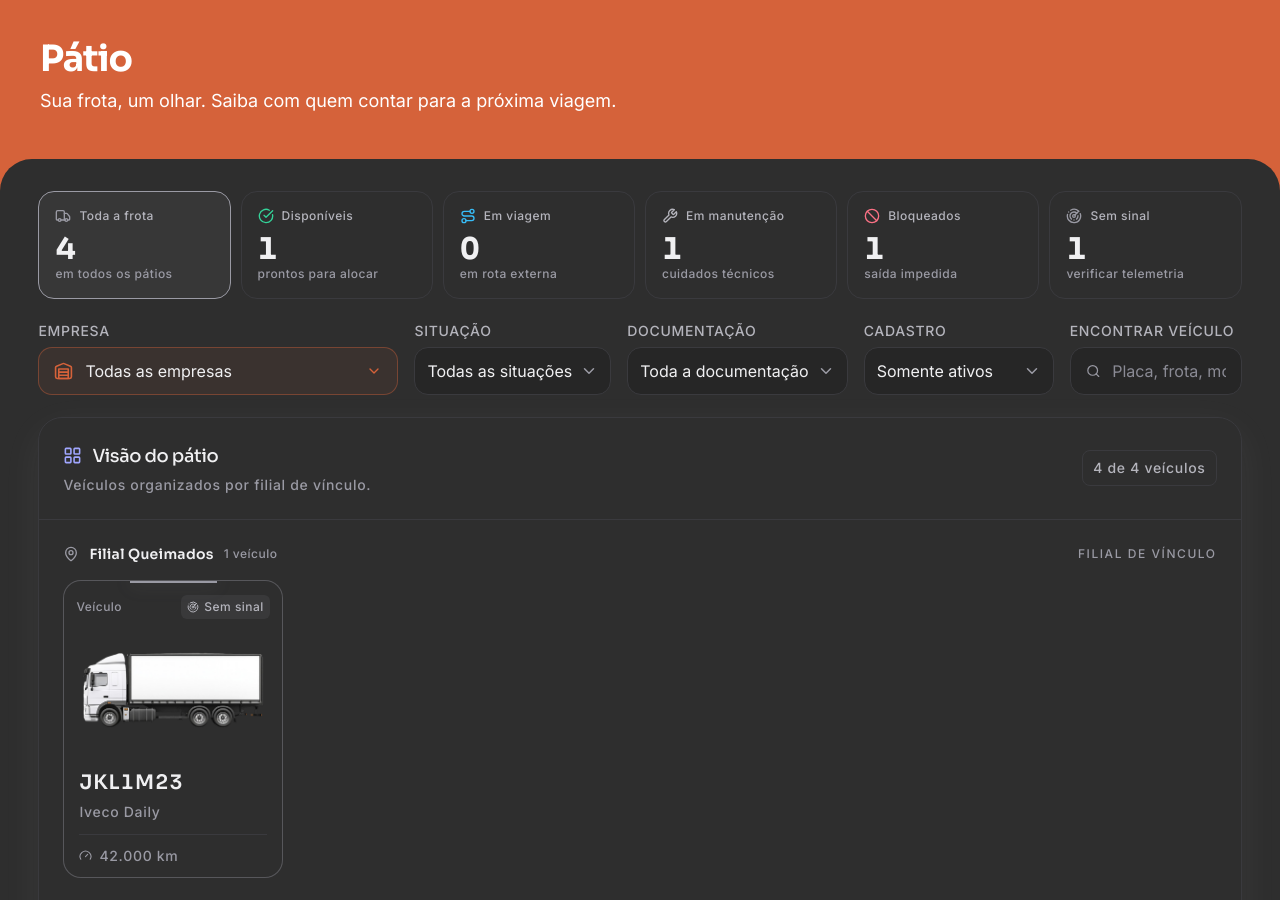
Test: Pátio › esconde o veículo inativo até o filtro de cadastro pedir por ele
This screenshot has width=1280, height=900.
Click the dropdown named "Cadastro".
click(959, 371)  # box [864, 347, 1054, 395]
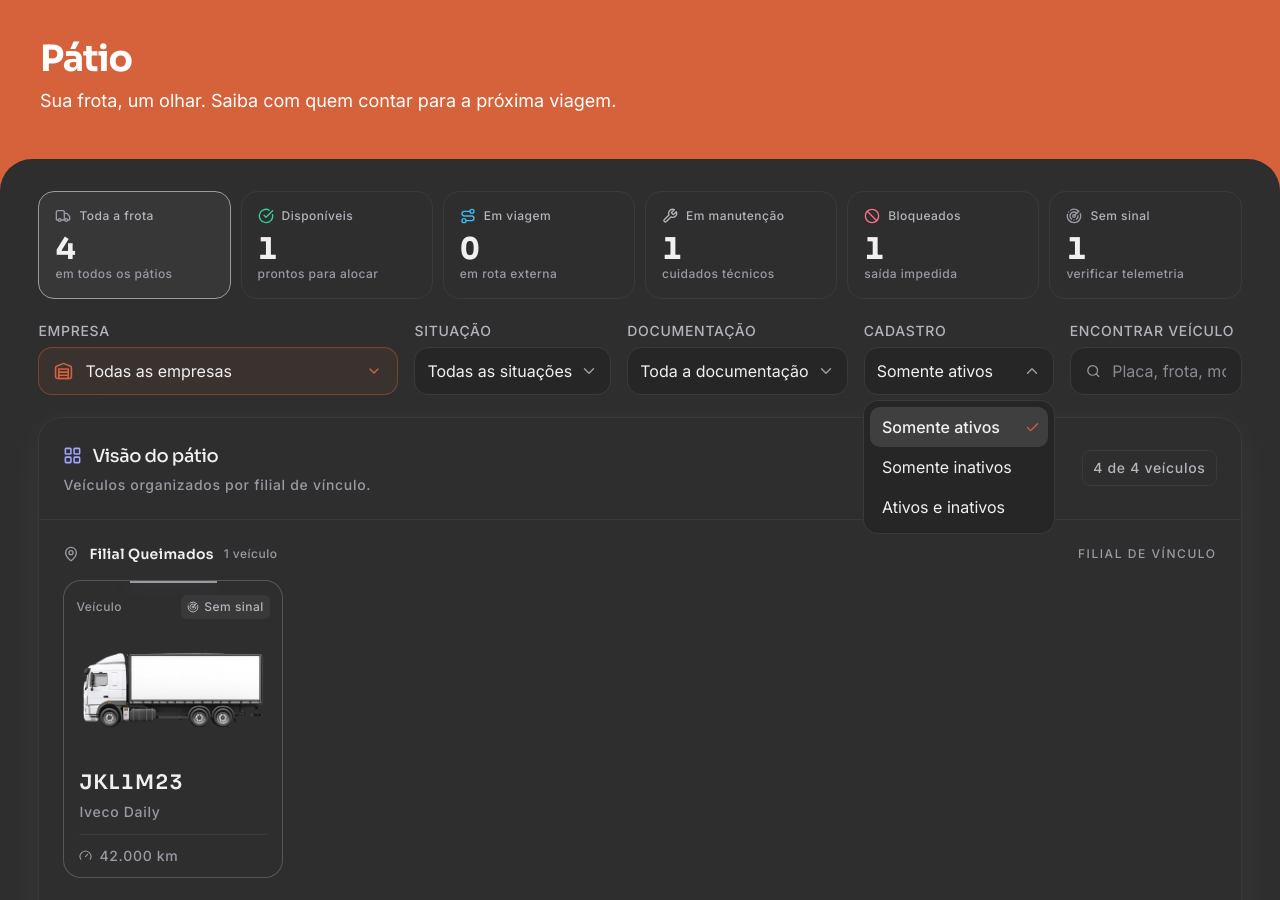
Click the option "Somente inativos".
click(947, 467)  # box [882, 457, 1012, 477]
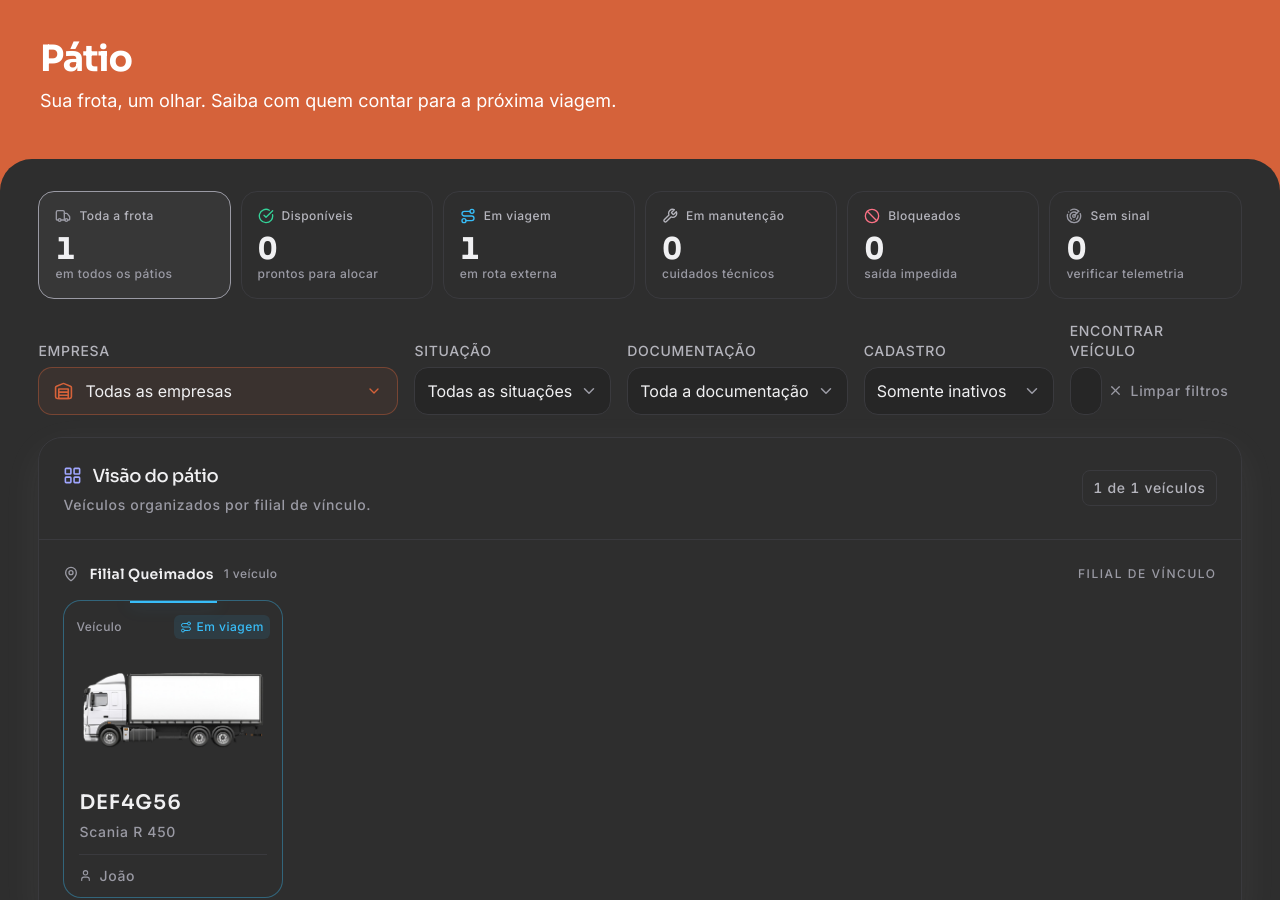
expect the button with aria-label "Veículo DEF4G56" is shown: met, box [63, 600, 283, 898]
